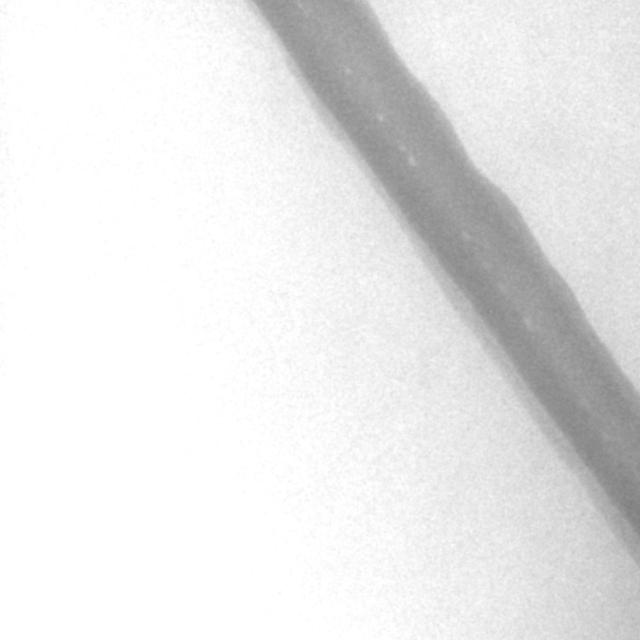air-hole: (523, 317, 532, 330), (408, 155, 417, 165), (461, 230, 469, 238), (501, 285, 506, 294), (400, 142, 404, 152), (584, 396, 588, 406), (603, 434, 608, 442), (378, 114, 382, 122), (345, 67, 349, 73), (485, 263, 489, 269), (298, 5, 302, 7)
